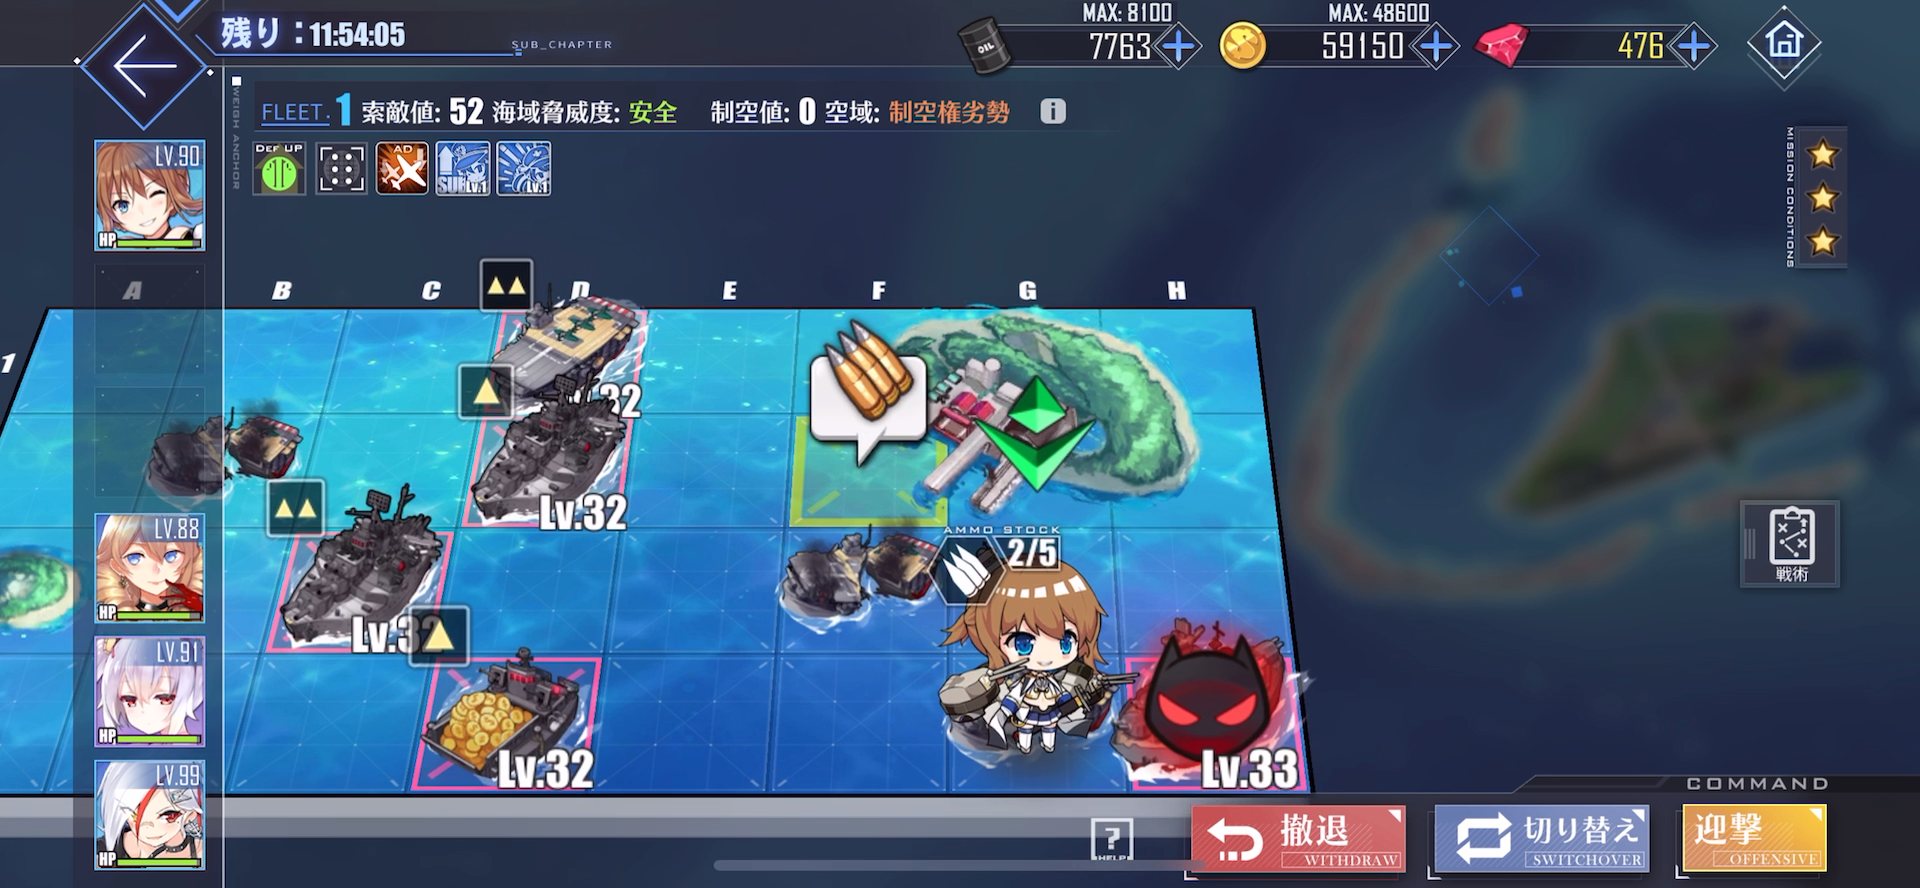boss: (1118, 630, 1305, 803)
